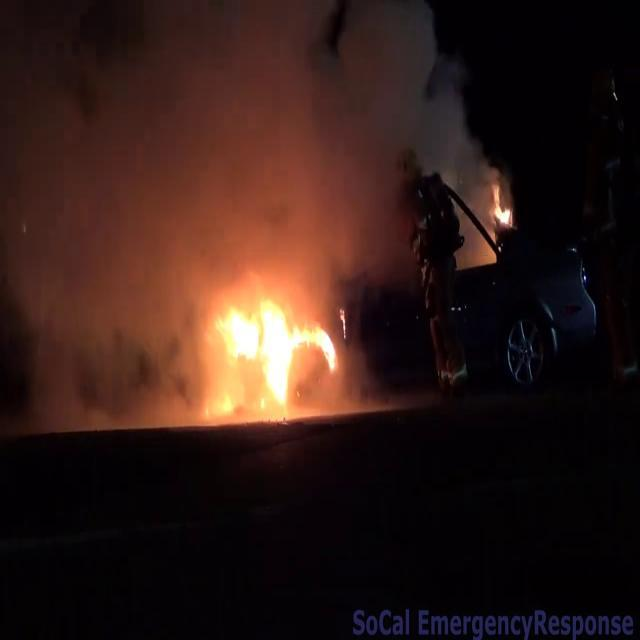Fire: (209, 286, 345, 414), (490, 182, 516, 230)
Smoke: (1, 0, 505, 292)
